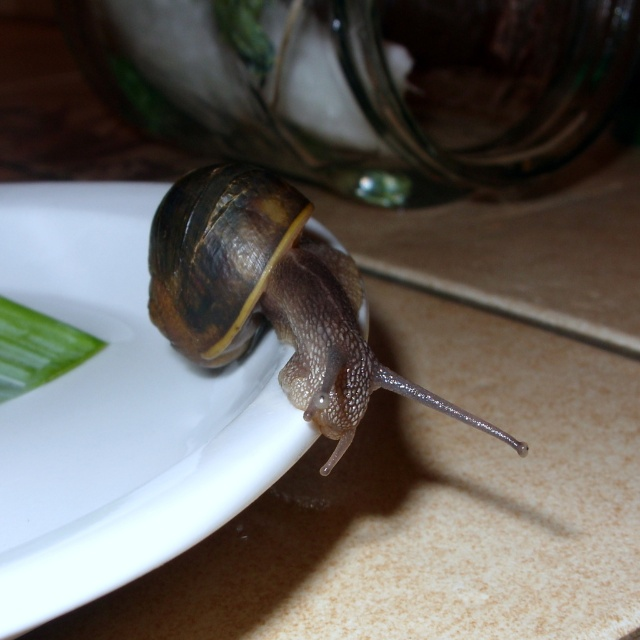Snail: (142, 160, 533, 483)
